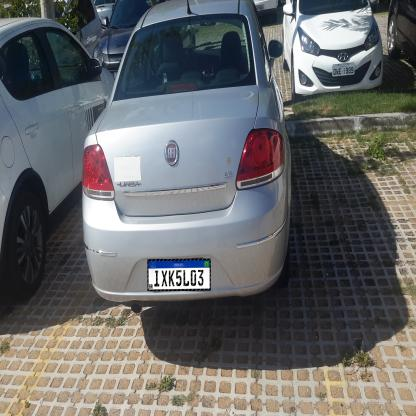PlacaM: (147, 258, 211, 292)
